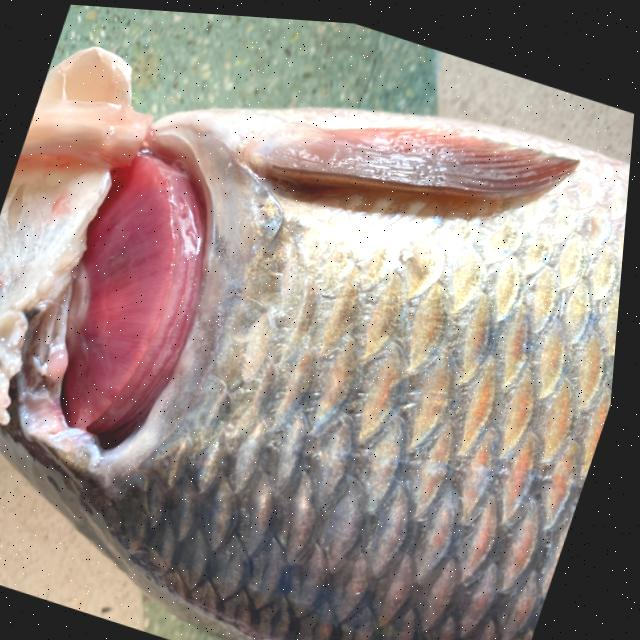Fresh: (0, 64, 310, 540)
